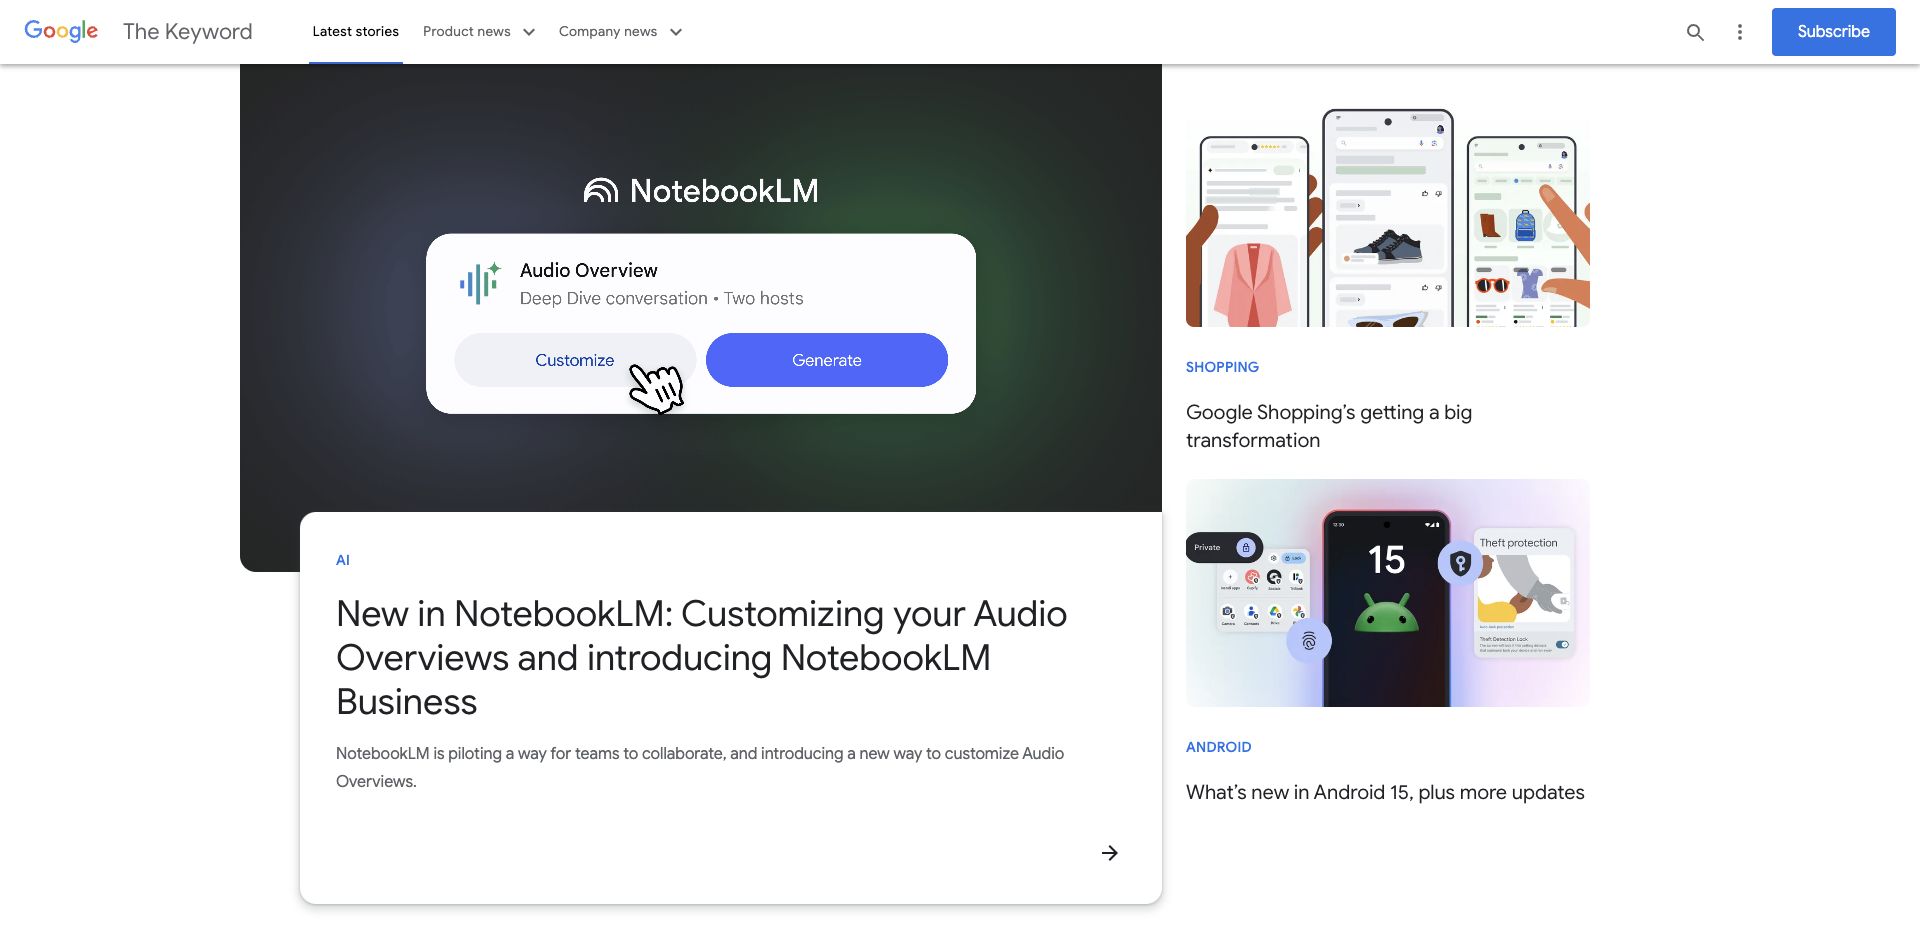button: (547, 0, 693, 64), (411, 0, 547, 64), (301, 0, 411, 64), (1772, 9, 1896, 55), (1674, 10, 1718, 54), (1718, 10, 1762, 54), (1836, 901, 1880, 941)
link: (240, 64, 1162, 572), (336, 592, 1127, 795), (1187, 479, 1589, 707), (1187, 100, 1589, 327), (1187, 399, 1589, 456), (1187, 778, 1589, 827), (1187, 343, 1259, 391), (122, 20, 252, 45), (1187, 723, 1251, 771), (336, 535, 384, 583), (1078, 820, 1127, 867)
